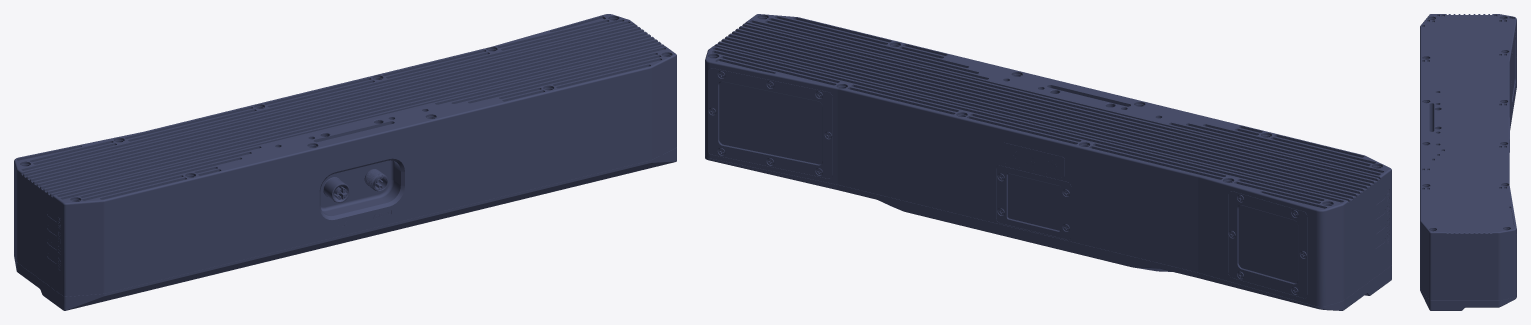
File: MechEye.obj
The picture shows the model from 3 angles, left to right: view 1: azimuth 30°, elevation 25°; view 2: azimuth 150°, elevation 25°; view 3: azimuth 270°, elevation 25°; orthographic projection. The views are drawn at different scales.
Parts seen in each view (by area): view 1: empty_2; view 2: empty_2; view 3: empty_2.
Part boxes in pixels (x1,y1,x2,y2): empty_2: [14, 14, 676, 310]; empty_2: [705, 14, 1391, 310]; empty_2: [1420, 14, 1516, 310].
Bounding box in the file's own units: 459 × 77.14 × 85.85.
